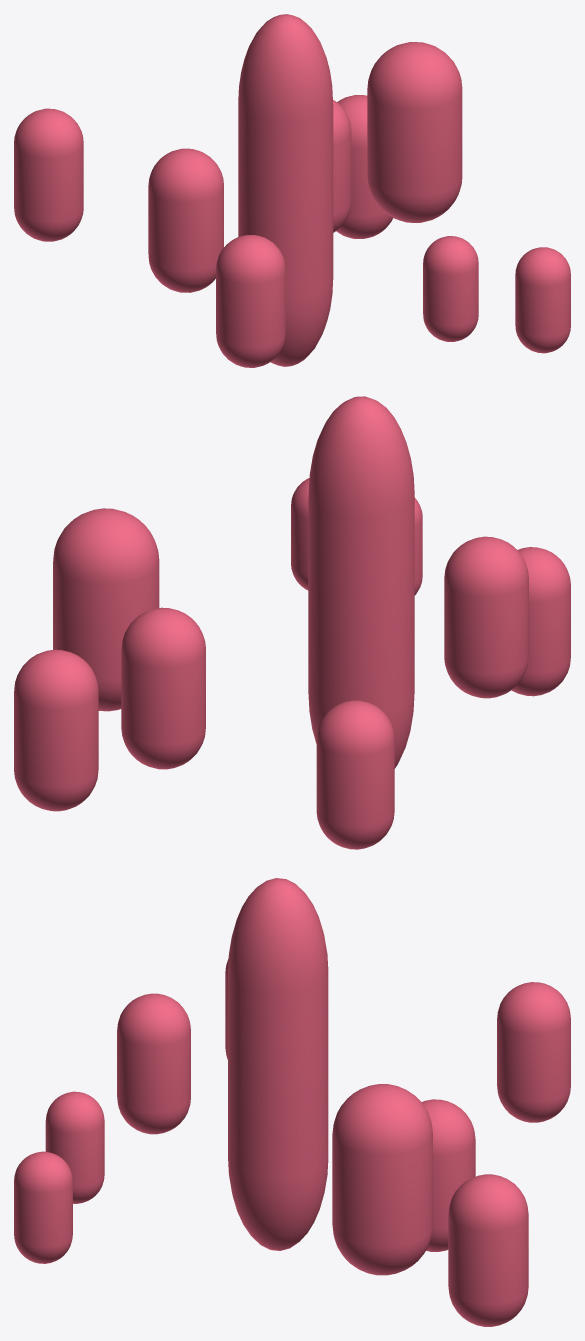
The model's file is pfb_ressource_food.fbx.
The picture shows the model from 3 angles, top to bottom: view 1: azimuth 30°, elevation 25°; view 2: azimuth 150°, elevation 25°; view 3: azimuth 270°, elevation 25°; orthographic projection. The views are drawn at different scales.
Parts seen in each view (by area): view 1: Capsule, Capsule__1_, Capsule__2_, Capsule__3_, Capsule__6_, Capsule__8_, Capsule__7_, Capsule__5_, Capsule__4_; view 2: Capsule, Capsule__1_, Capsule__2_, Capsule__4_, Capsule__5_, Capsule__6_, Capsule__3_, Capsule__8_, Capsule__7_; view 3: Capsule, Capsule__1_, Capsule__5_, Capsule__3_, Capsule__6_, Capsule__8_, Capsule__7_, Capsule__4_.
Part boxes in pixels (<box>): Capsule: <box>238,14,333,366</box>; Capsule__1_: <box>367,42,462,222</box>; Capsule__2_: <box>148,148,223,292</box>; Capsule__3_: <box>216,235,285,367</box>; Capsule__6_: <box>14,108,83,241</box>; Capsule__8_: <box>515,247,570,353</box>; Capsule__7_: <box>423,236,478,341</box>; Capsule__5_: <box>336,95,392,238</box>; Capsule__4_: <box>333,100,351,232</box>; Capsule: <box>308,396,414,768</box>; Capsule__1_: <box>53,508,159,711</box>; Capsule__2_: <box>444,536,528,698</box>; Capsule__4_: <box>121,607,205,769</box>; Capsule__5_: <box>14,649,98,811</box>; Capsule__6_: <box>316,700,394,849</box>; Capsule__3_: <box>511,547,570,696</box>; Capsule__8_: <box>291,478,309,590</box>; Capsule__7_: <box>414,497,422,595</box>; Capsule: <box>228,878,328,1250</box>; Capsule__1_: <box>332,1084,432,1275</box>; Capsule__5_: <box>448,1174,528,1326</box>; Capsule__3_: <box>117,993,190,1134</box>; Capsule__6_: <box>497,982,570,1122</box>; Capsule__8_: <box>14,1151,72,1263</box>; Capsule__7_: <box>45,1091,104,1203</box>; Capsule__4_: <box>421,1099,475,1251</box>.
Bounding box in the file's own units: 263 × 240 × 328.
